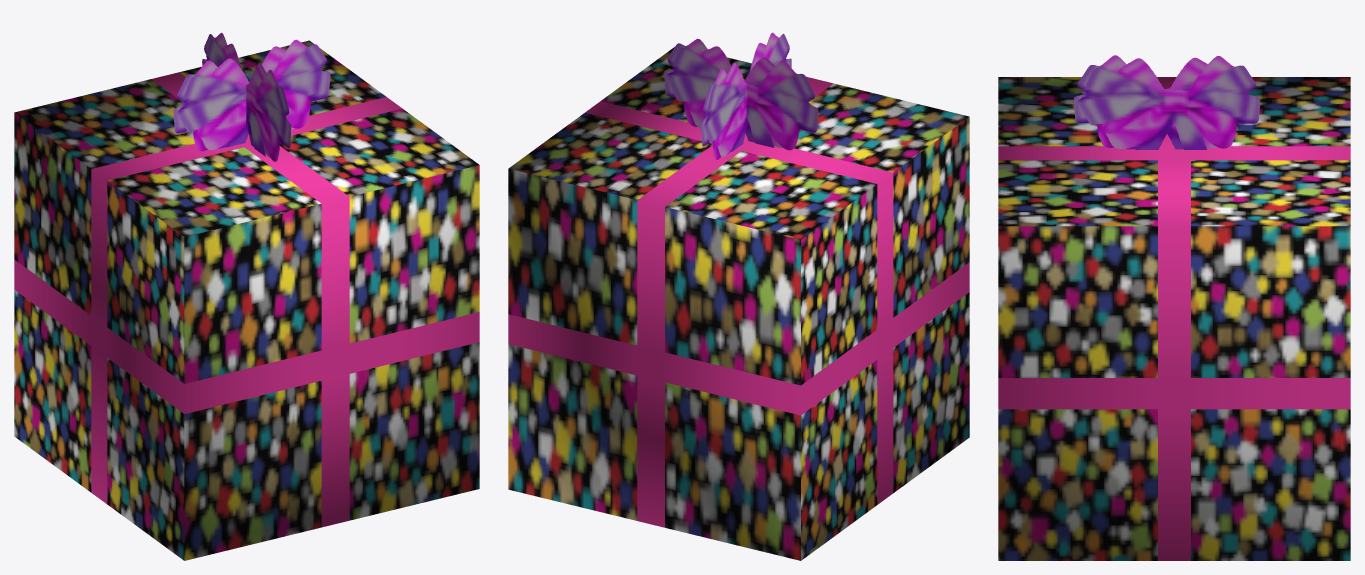
Rendered from gift_3.FBX.
3 views of the same model, side by side, from view 1: azimuth 30°, elevation 25°; view 2: azimuth 150°, elevation 25°; view 3: azimuth 270°, elevation 25° (orthographic). The views are drawn at different scales.
Parts seen in each view (by area): view 1: gift_003; view 2: gift_003; view 3: gift_003.
Part boxes in pixels (bbox=[...]): gift_003: bbox=[14, 32, 479, 560]; gift_003: bbox=[508, 32, 969, 560]; gift_003: bbox=[998, 55, 1350, 560].
Size of the model in its own units: 65.5 by 88.27 by 65.41.
